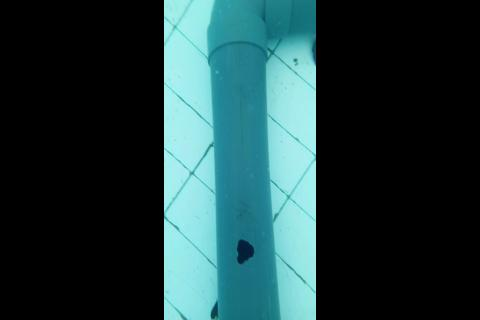kebocoran: (235, 239, 254, 266)
